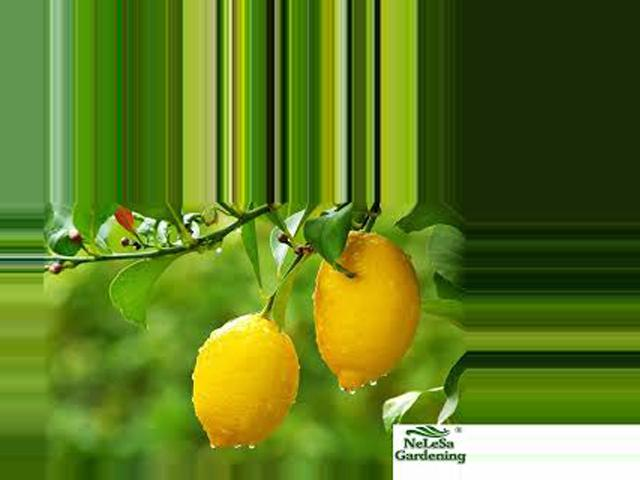lemon: (298, 223, 426, 393)
